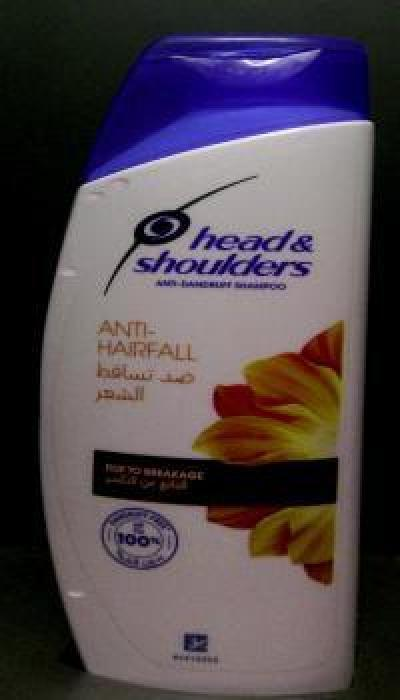dent_unacc: (77, 160, 153, 216), (59, 571, 105, 613), (59, 246, 99, 288)
